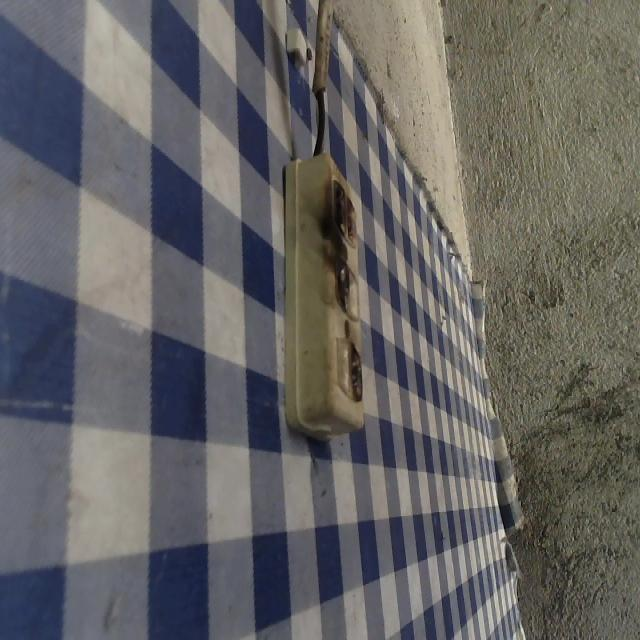-: (318, 165, 367, 247), (344, 335, 368, 408), (332, 257, 358, 316)
